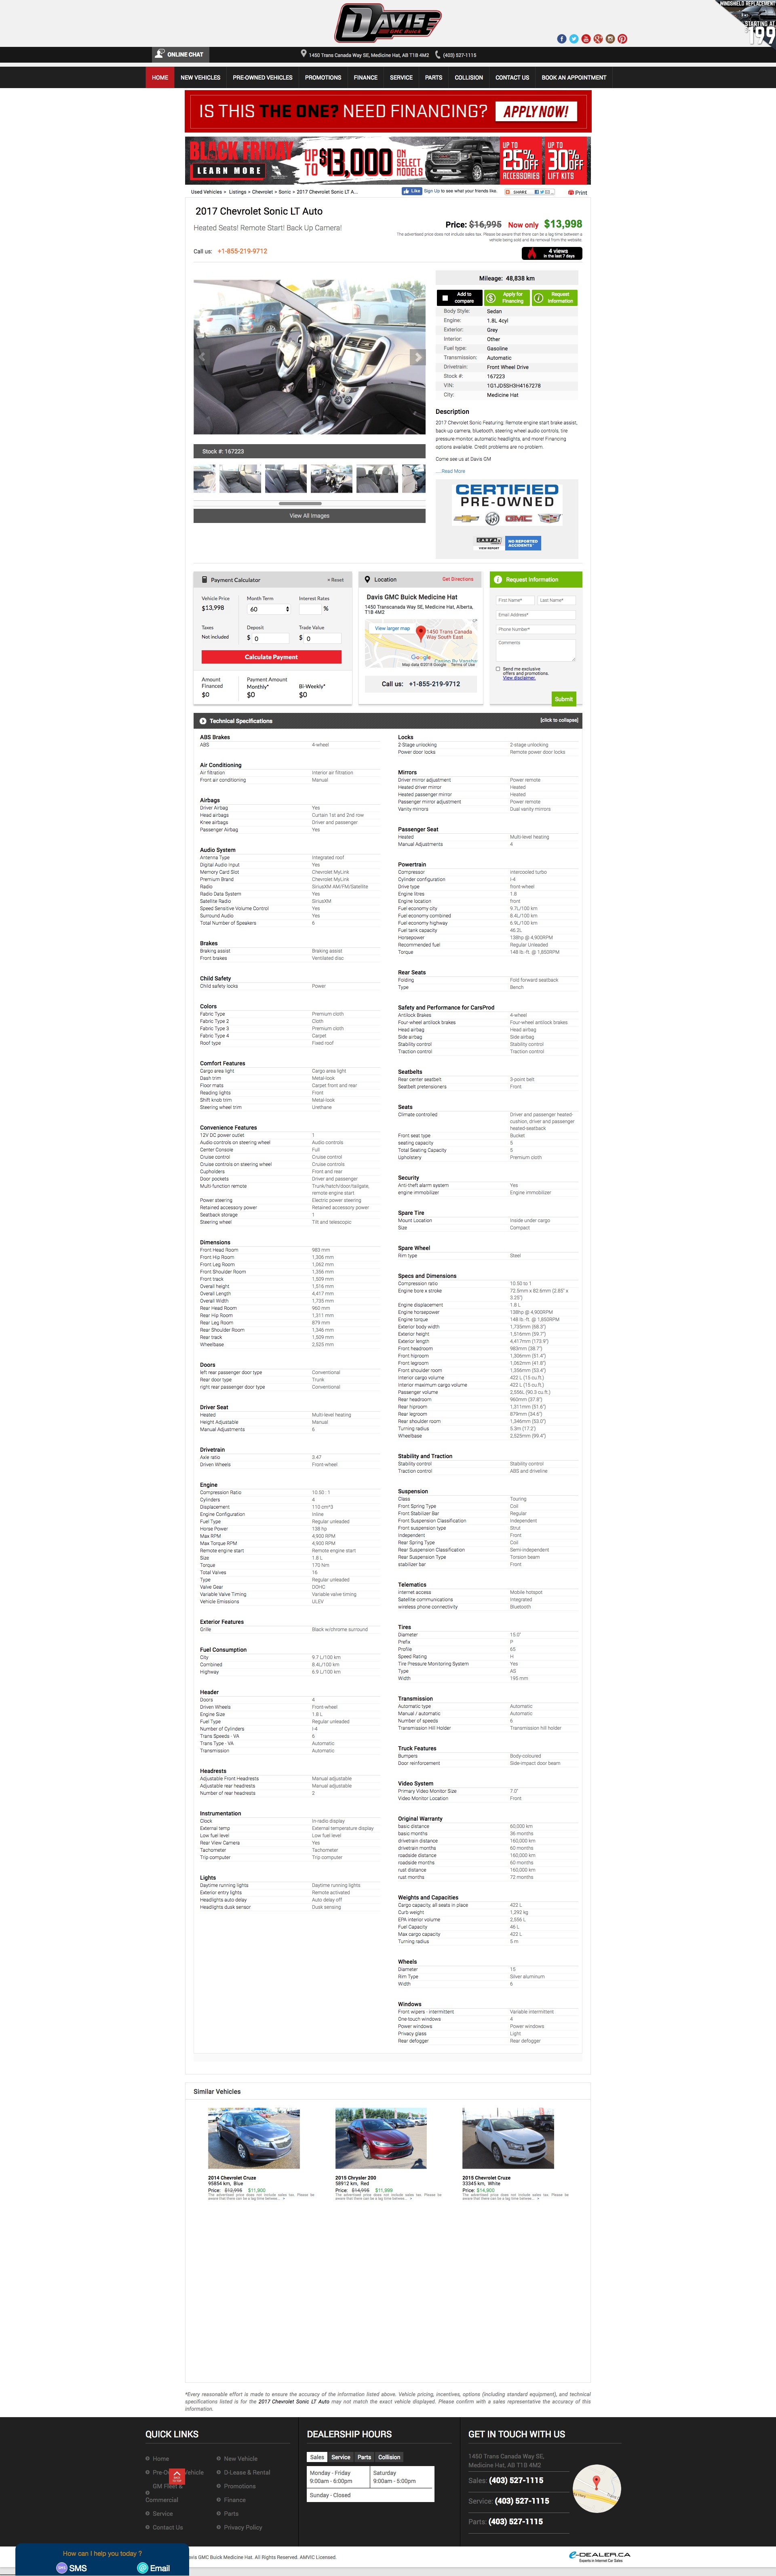car: (409, 348, 427, 368)
